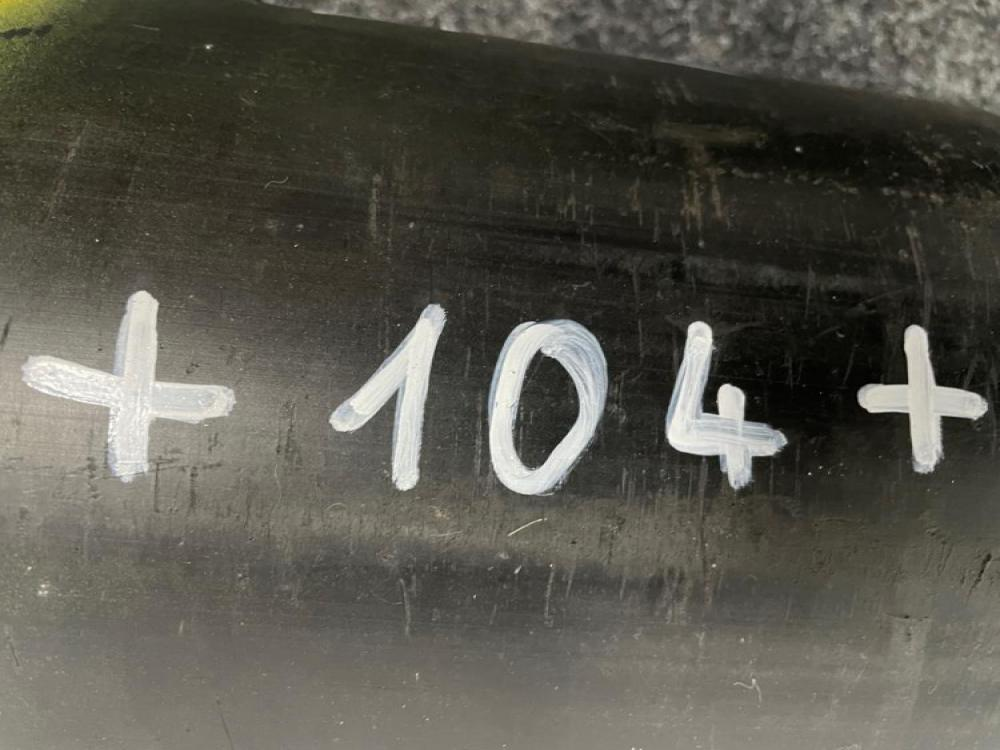+: (357, 9, 616, 175), (364, 636, 576, 744)
0: (336, 358, 580, 464)
1: (344, 241, 603, 338)
4: (350, 494, 577, 594)
